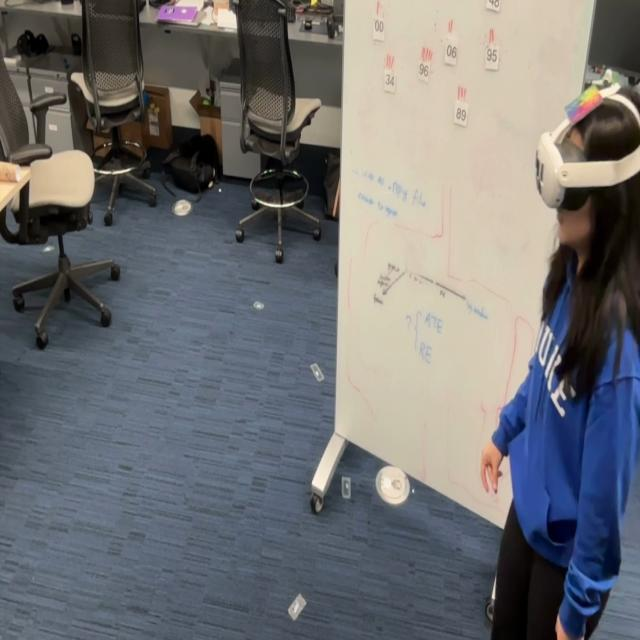Headset: (535, 87, 639, 210)
Marker: (566, 83, 607, 136)
